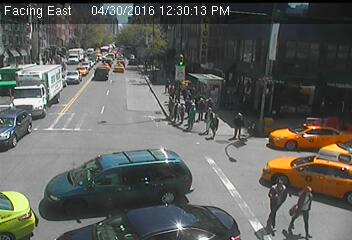neg: (30, 88, 62, 131), (96, 100, 127, 142), (94, 49, 121, 84), (236, 56, 261, 90), (299, 66, 323, 98), (55, 156, 78, 187), (167, 48, 190, 78), (216, 167, 236, 195), (36, 29, 56, 56), (168, 173, 186, 196)
pos: (260, 177, 297, 227), (295, 186, 327, 229), (233, 112, 254, 139), (184, 104, 203, 129), (201, 105, 219, 129), (209, 113, 226, 136)
